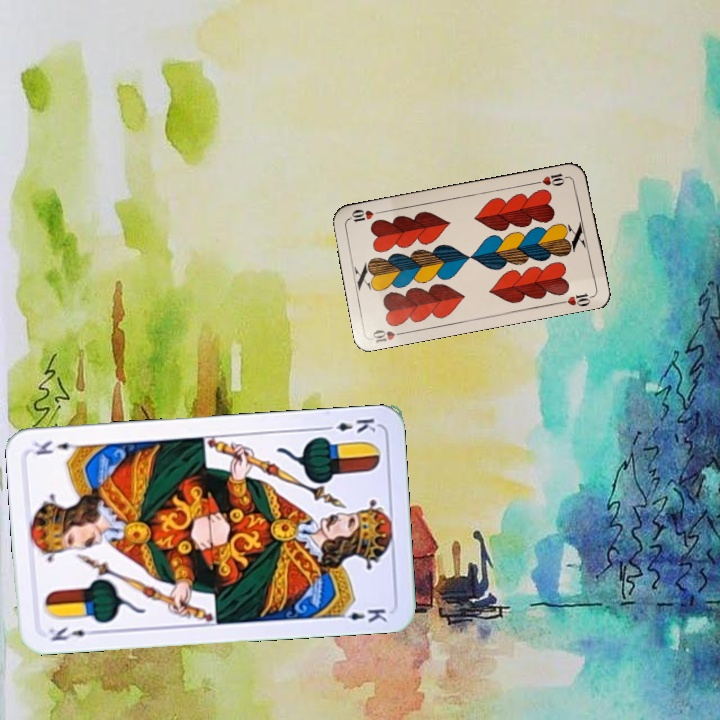EK: (319, 414, 379, 435), (44, 623, 101, 644)
H10: (369, 325, 409, 345), (531, 169, 572, 188)
